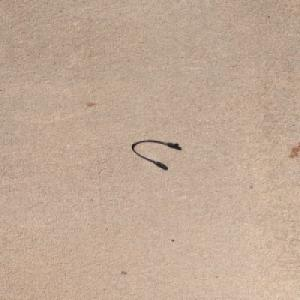Wire: (130, 139, 179, 168)
